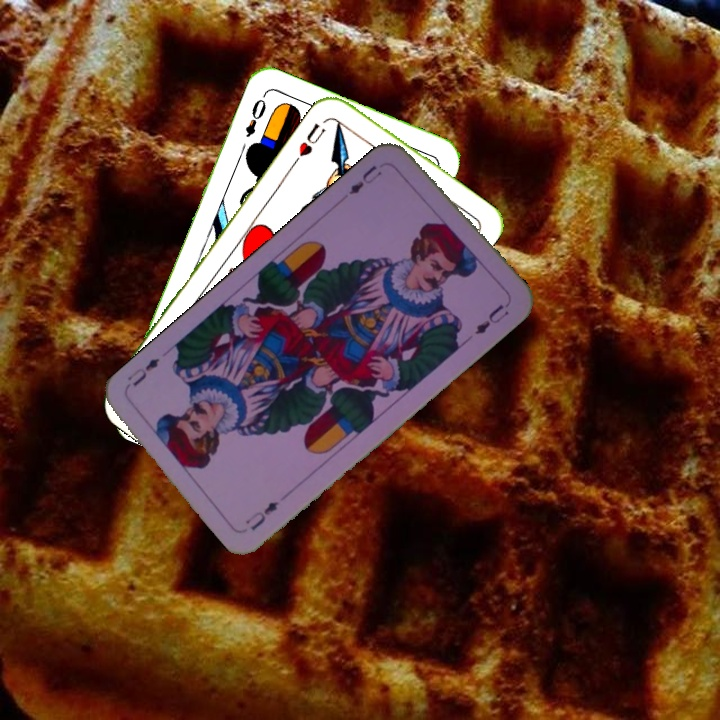EO: (241, 90, 269, 140)
EU: (241, 497, 282, 534), (345, 161, 385, 198)
HU: (294, 119, 329, 159)
